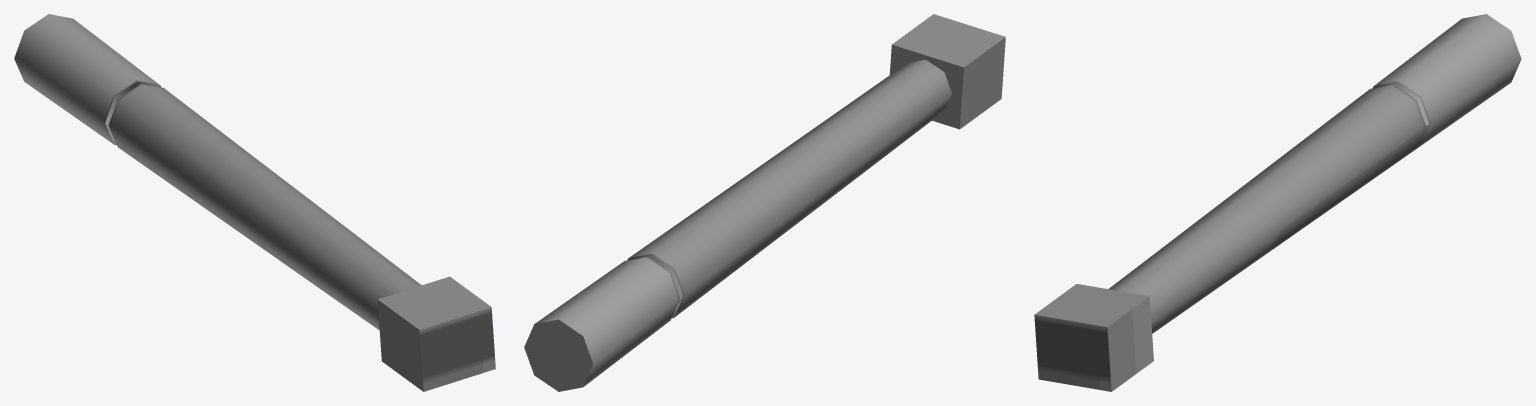
3 views of the same model, side by side, from view 1: azimuth 30°, elevation 25°; view 2: azimuth 150°, elevation 25°; view 3: azimuth 330°, elevation 25° (orthographic).
Bounding box in the file's own units: 0.095 × 0.086 × 0.88.
